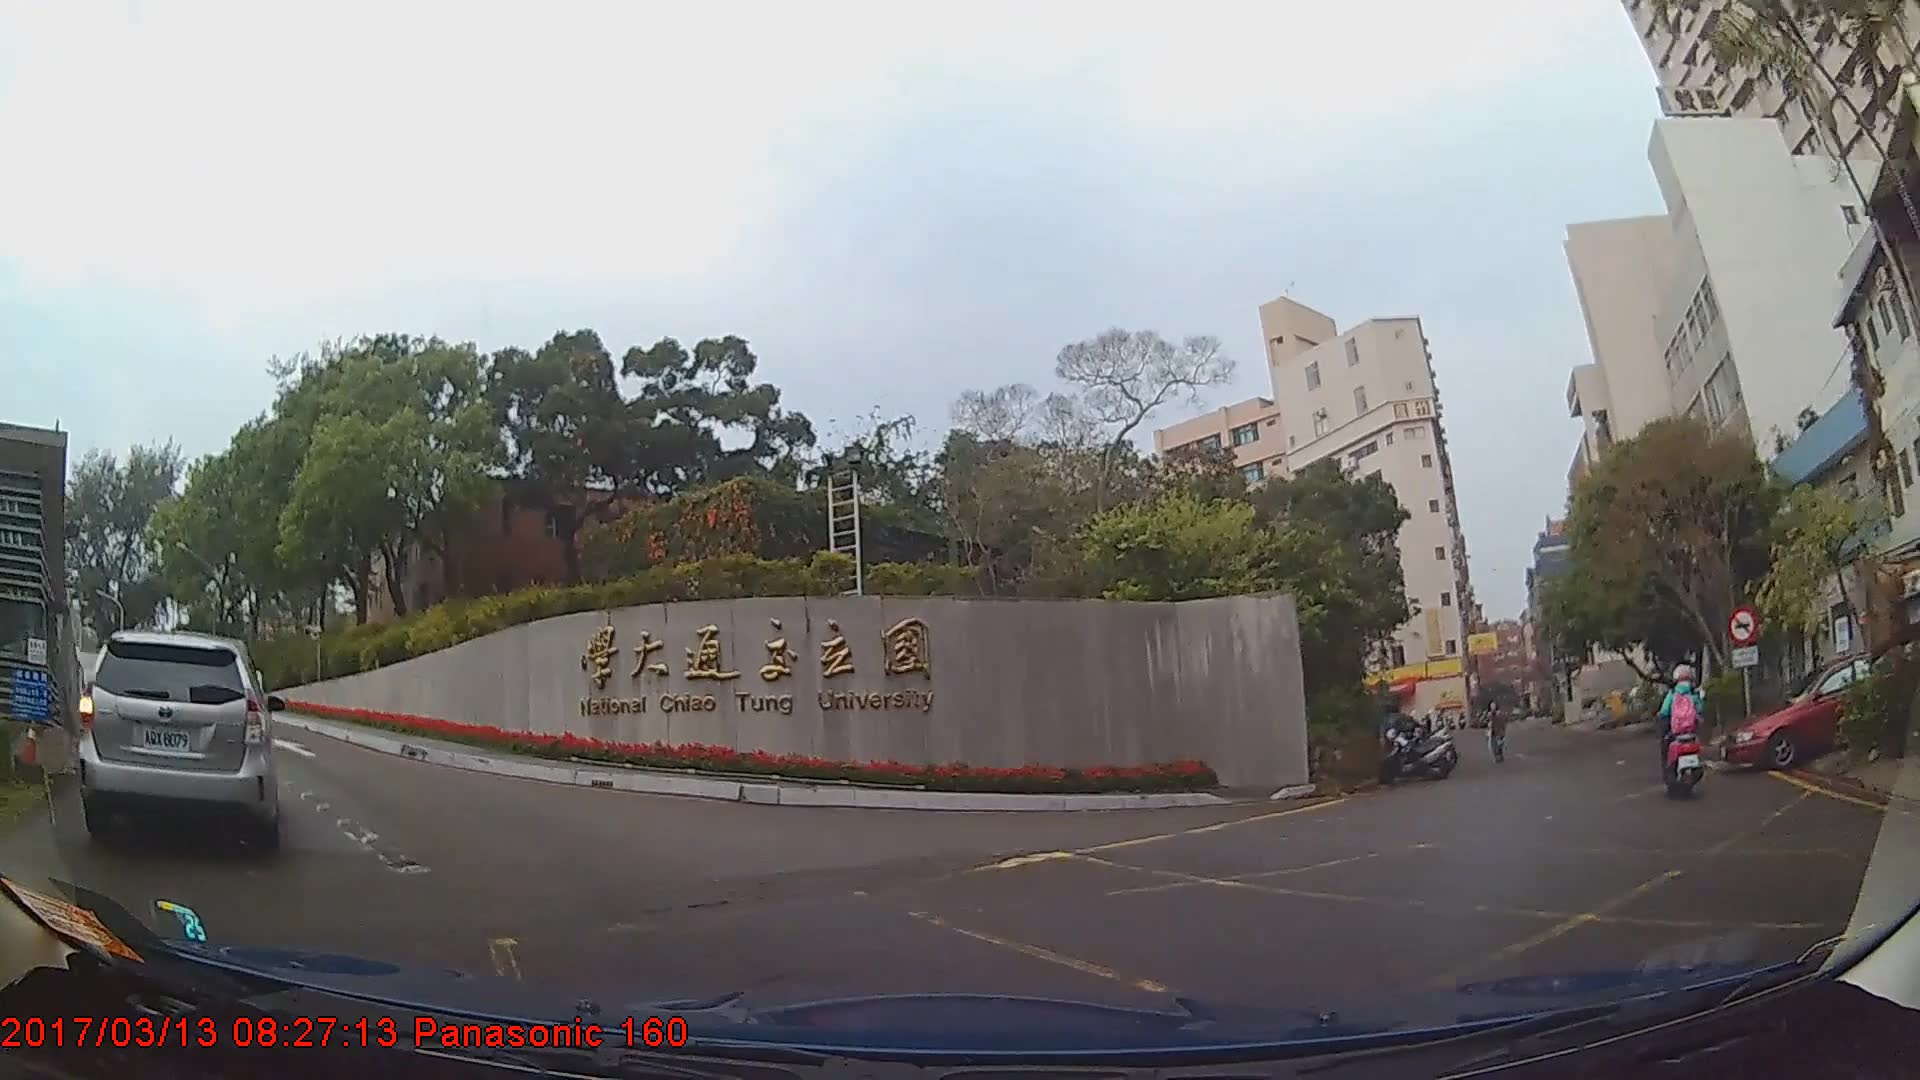pedestrian: (1482, 703, 1509, 765)
rider: (1663, 662, 1709, 803)
vehicle: (77, 626, 282, 850), (1718, 654, 1911, 775)
